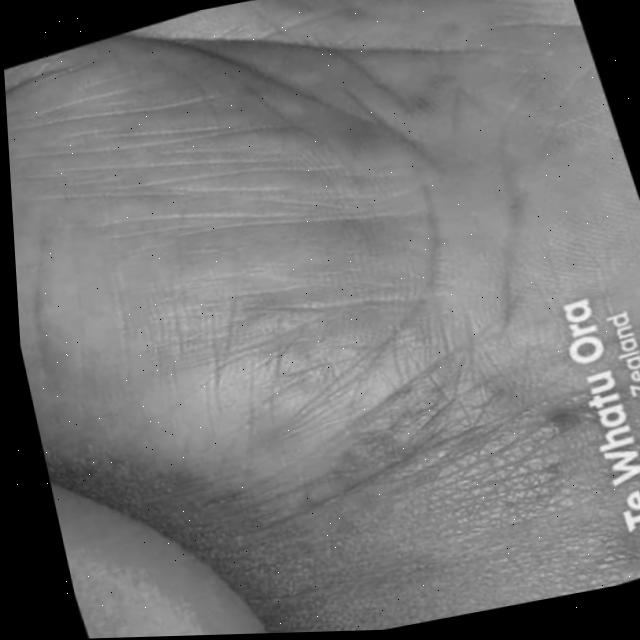Eczema: (13, 4, 538, 587)
